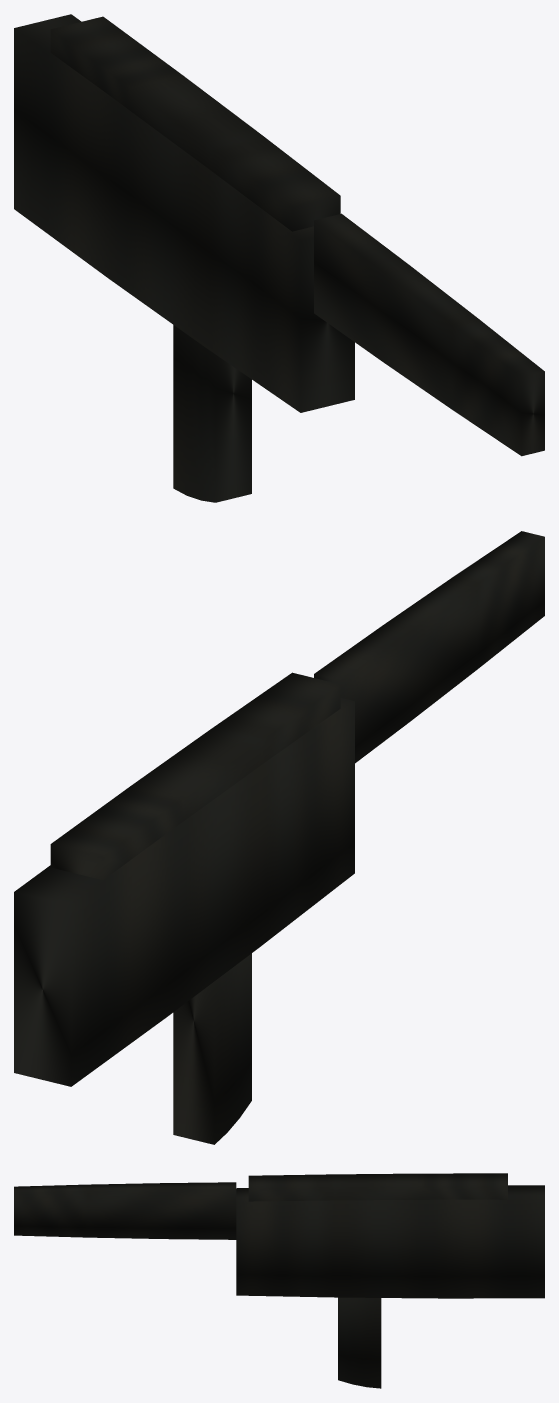
The model's file is wpn_galil_ace.glb.
The picture shows the model from 3 angles, top to bottom: view 1: azimuth 30°, elevation 25°; view 2: azimuth 150°, elevation 25°; view 3: azimuth 270°, elevation 25°; orthographic projection. The views are drawn at different scales.
Visible parts, largest first — view 1: SubMesh_0_Receiver, SubMesh_3_BarrelSight, SubMesh_1_Action, SubMesh_2_Magazine; view 2: SubMesh_0_Receiver, SubMesh_3_BarrelSight, SubMesh_1_Action, SubMesh_2_Magazine; view 3: SubMesh_0_Receiver, SubMesh_3_BarrelSight, SubMesh_1_Action, SubMesh_2_Magazine.
Boxes of the visible parts, box(x1,y1,x2,y2) form: SubMesh_0_Receiver: box(14, 14, 354, 412); SubMesh_3_BarrelSight: box(314, 213, 544, 456); SubMesh_1_Action: box(50, 16, 340, 231); SubMesh_2_Magazine: box(173, 325, 251, 502); SubMesh_0_Receiver: box(14, 698, 354, 1086); SubMesh_3_BarrelSight: box(314, 531, 544, 763); SubMesh_1_Action: box(50, 672, 340, 879); SubMesh_2_Magazine: box(173, 953, 251, 1144); SubMesh_0_Receiver: box(236, 1185, 544, 1298); SubMesh_3_BarrelSight: box(14, 1182, 236, 1239); SubMesh_1_Action: box(248, 1173, 507, 1201); SubMesh_2_Magazine: box(338, 1297, 381, 1388).
Size of the model in its own units: 0.0581 by 0.3625 by 0.86.
1 material, 1 textured.
